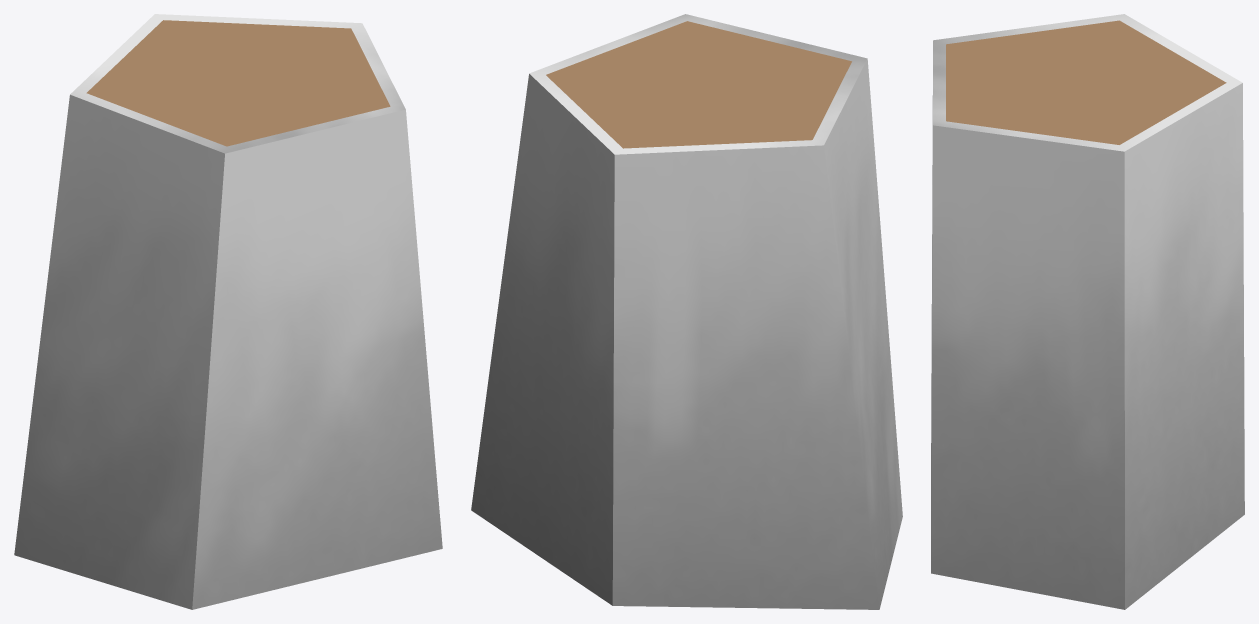
File: Birch_Stump_03.fbx
3 renders of one model, left to right at view 1: azimuth 30°, elevation 25°; view 2: azimuth 150°, elevation 25°; view 3: azimuth 270°, elevation 25°, orthographic. The views are drawn at different scales.
Parts seen in each view (by area): view 1: Birch_Stump_03; view 2: Birch_Stump_03; view 3: Birch_Stump_03.
Boxes of the visible parts, x1,y1,x2,y2 form: Birch_Stump_03: (14,14,442,609); Birch_Stump_03: (471,14,902,609); Birch_Stump_03: (931,14,1244,609).
Size of the model in its own units: 81.96 by 86.42 by 56.98.
